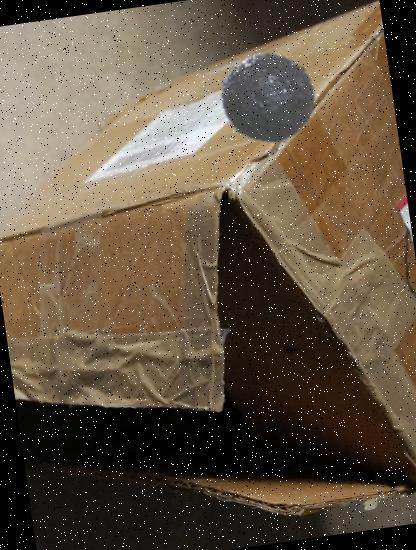Avocado: (209, 44, 323, 158)
